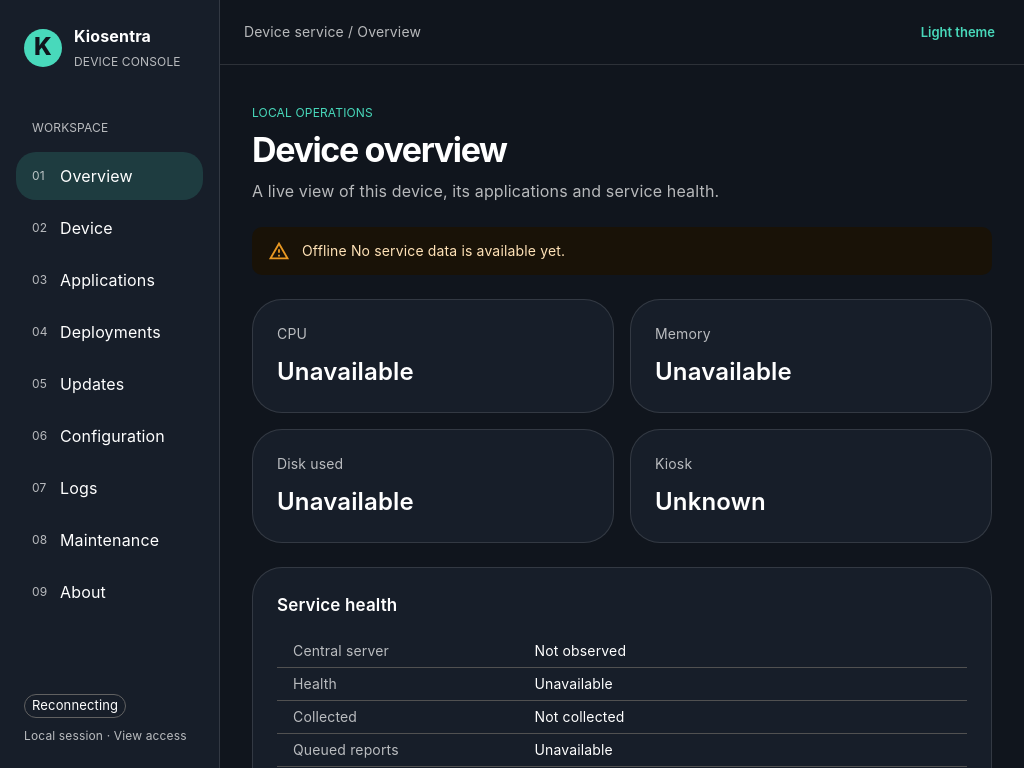
Test: keeps the console usable when browser storage is blocked
This screenshot has width=1024, height=768.
Check: the text "Offline No service data is available yet." is shown, box [302, 242, 565, 259]
Click the button "Light theme" at (958, 32), box [916, 17, 1000, 47]
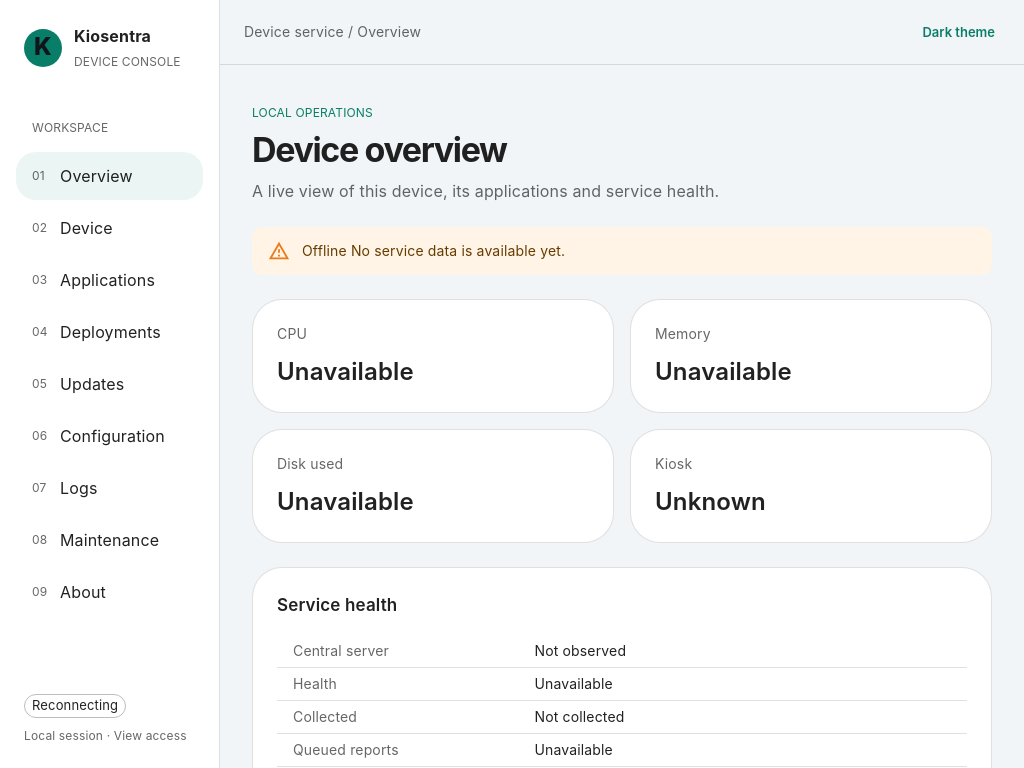
Check: the button "Dark theme" is shown, box [917, 17, 1000, 47]
